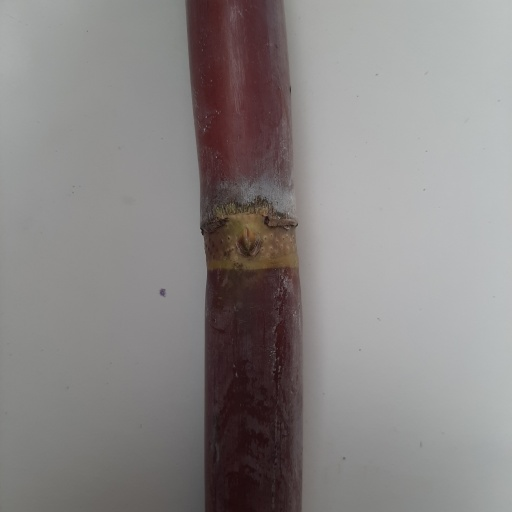Bud: (234, 226, 263, 261)
